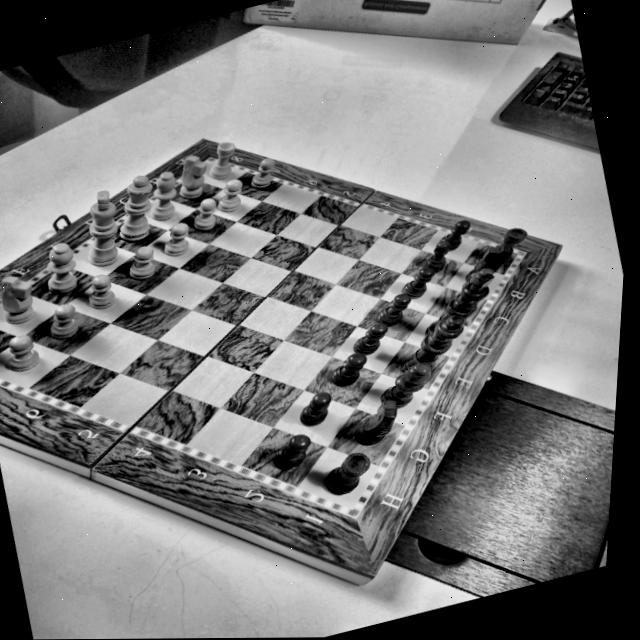black-bishop: (370, 357, 440, 416), (440, 263, 501, 306)
black-king: (413, 270, 507, 345)
black-knight: (344, 394, 407, 450), (454, 242, 521, 285)
black-pawn: (259, 428, 318, 477), (288, 386, 341, 434), (345, 317, 395, 361), (367, 289, 417, 332), (321, 349, 372, 391), (391, 262, 441, 303), (429, 216, 476, 256), (414, 236, 456, 277)
black-queen: (387, 311, 477, 380)
black-rook: (313, 447, 377, 500), (473, 222, 535, 264)
white-bishop: (33, 237, 85, 298), (140, 165, 184, 223)
white-king: (65, 184, 131, 270)
white-knight: (0, 267, 47, 329), (167, 149, 214, 202)
white-pawn: (0, 329, 47, 380), (37, 298, 85, 346), (77, 267, 121, 315), (154, 218, 195, 259), (120, 241, 160, 283), (184, 194, 222, 235), (241, 154, 280, 192), (210, 176, 248, 214)
white-queen: (102, 171, 165, 246)
white-rook: (199, 137, 243, 184)
